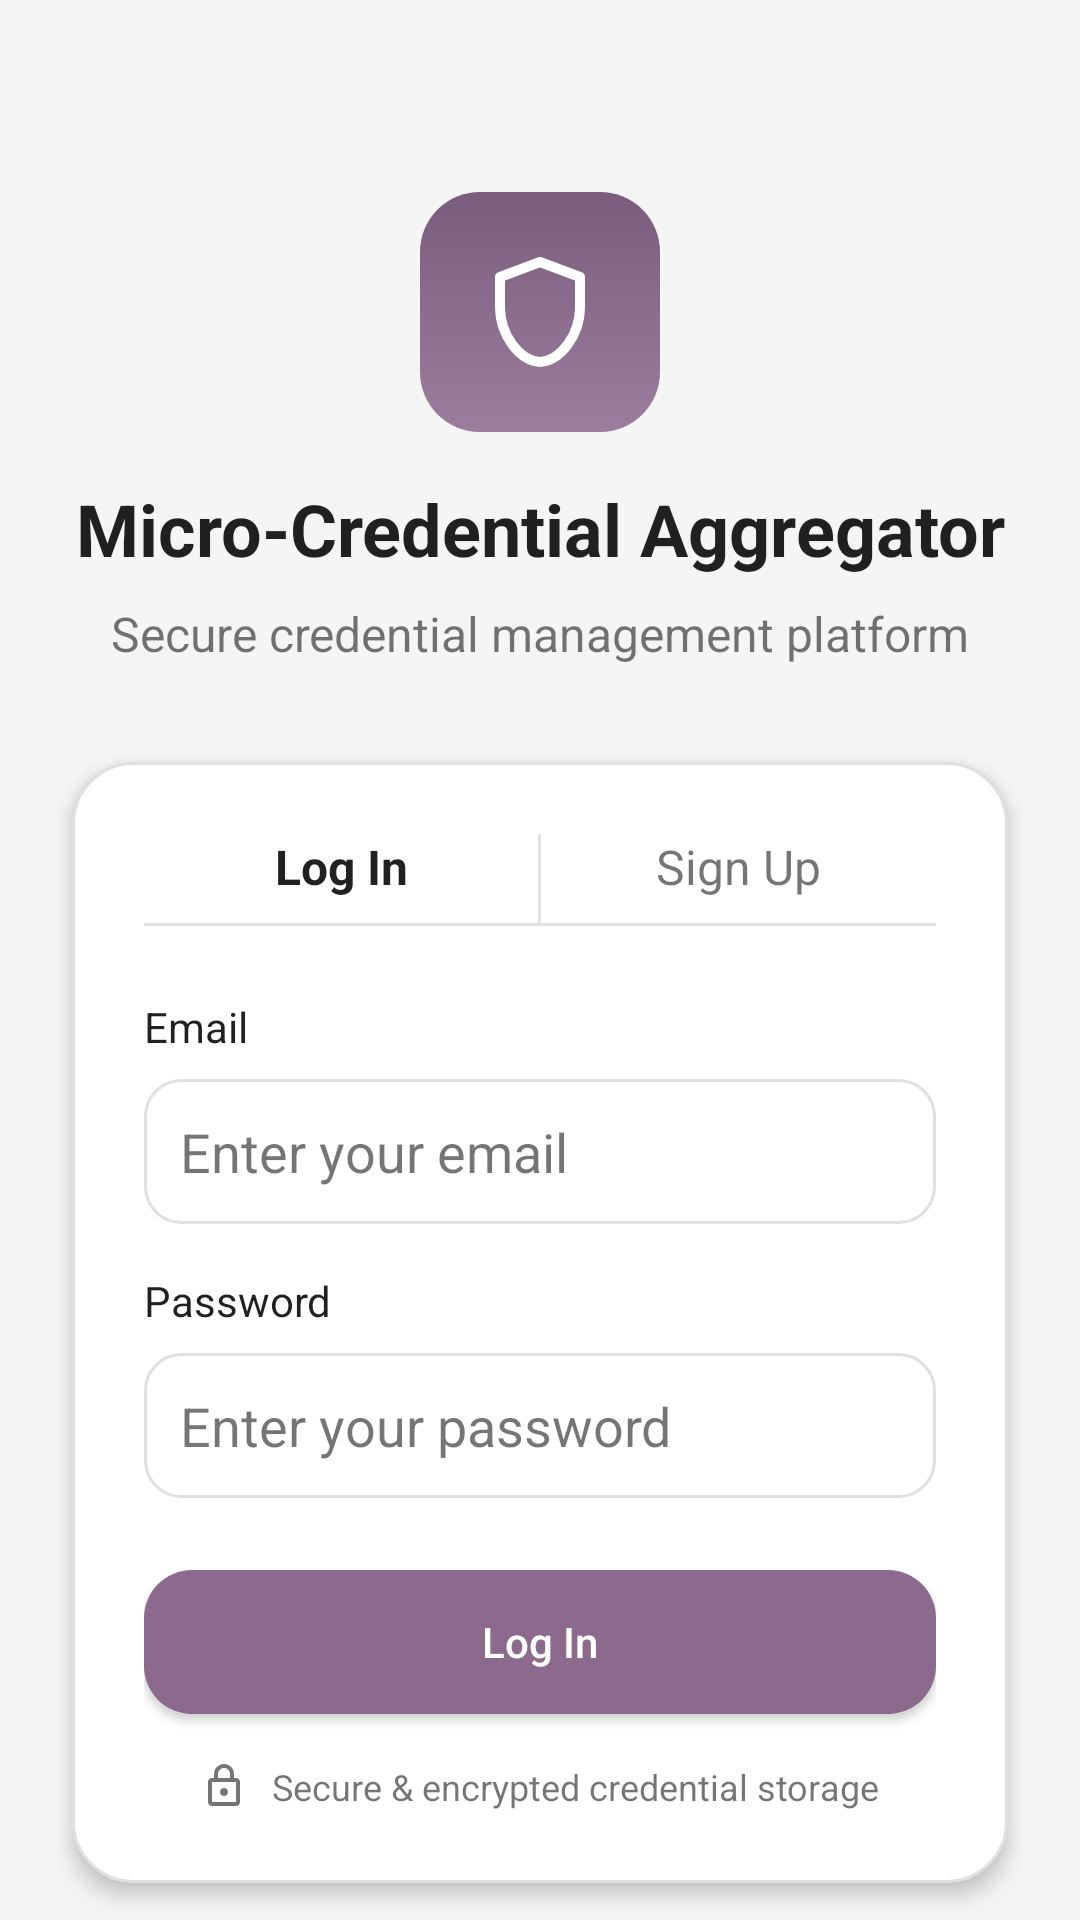

Where icons sit on this 1080px×1920px app screen, as (x1, y1, x2, y2):
lock: (208, 1764, 240, 1806)
shield: (420, 192, 660, 432)
